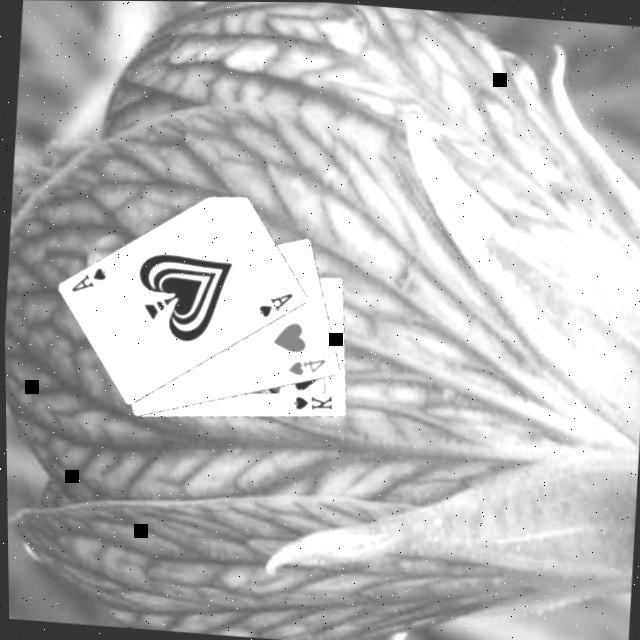4H: (284, 354, 328, 383)
AS: (254, 288, 296, 324), (68, 263, 110, 299)
KS: (288, 392, 336, 416)
